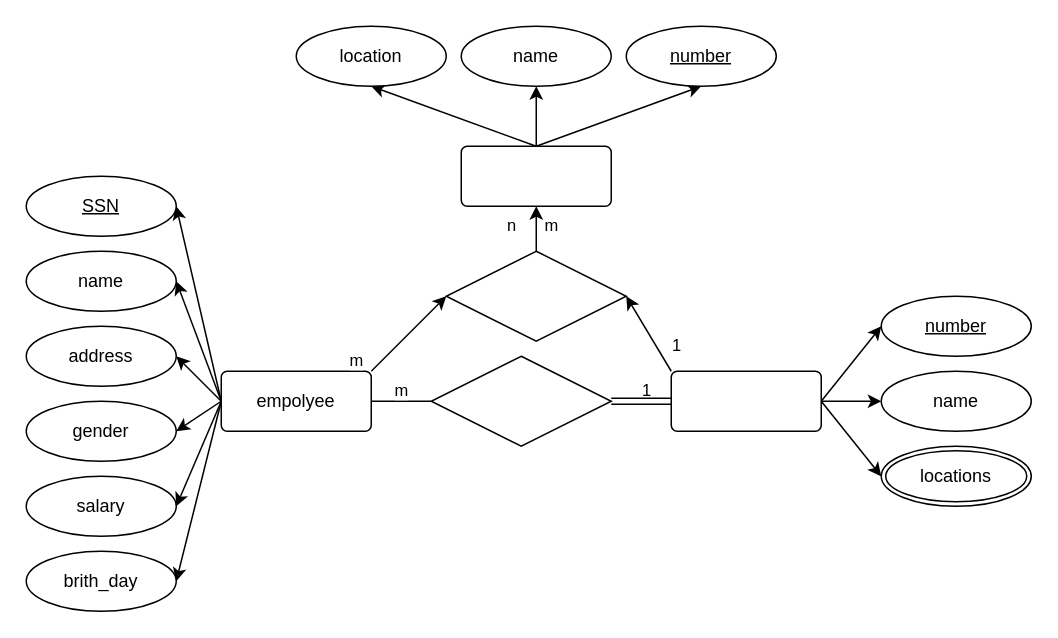
The diagram is 1058 pixels wide and 638 high, and some of its shapes have lost their labels. Each missing label, with the box of its shape:
control: (445, 250, 626, 341)
Depatment: (670, 370, 821, 431)
project: (460, 145, 611, 206)
works: (430, 355, 611, 446)
